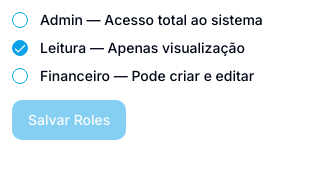
UserRolesForm › deve exibir mensagem quando nenhuma role selecionada
The image size is (332, 193).
# Desmarcar a role atual
Click the checkbox named "leitura" next to "Leitura — Apenas visualização" at (20, 48), box x1=12 y1=40 x2=28 y2=56
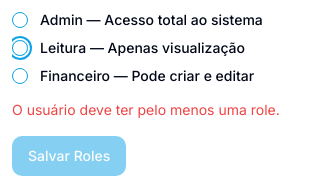
Expected: the button "Salvar Roles" is disabled, x1=12 y1=136 x2=126 y2=176
Expected: the text "O usuário deve ter pelo menos uma role." is shown, x1=12 y1=101 x2=280 y2=118
